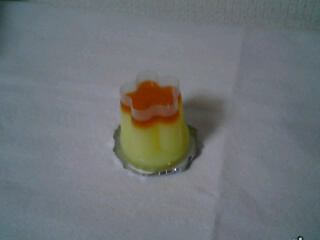001_classes: (103, 72, 207, 182)
